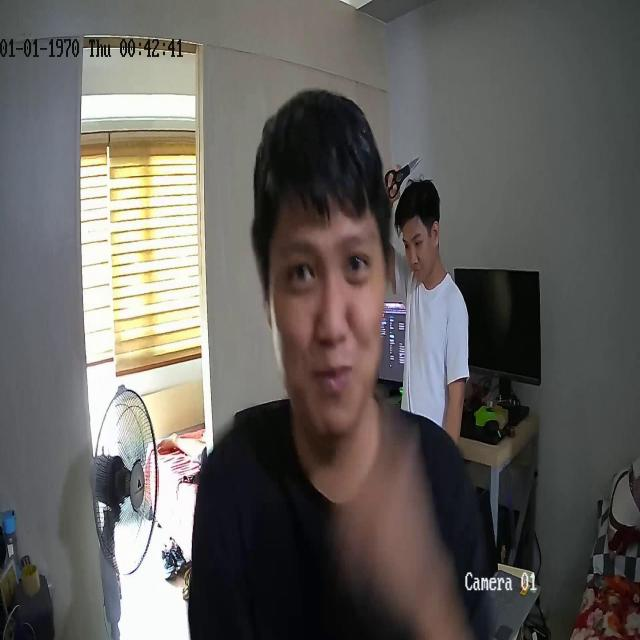scissor: (385, 158, 422, 200)
